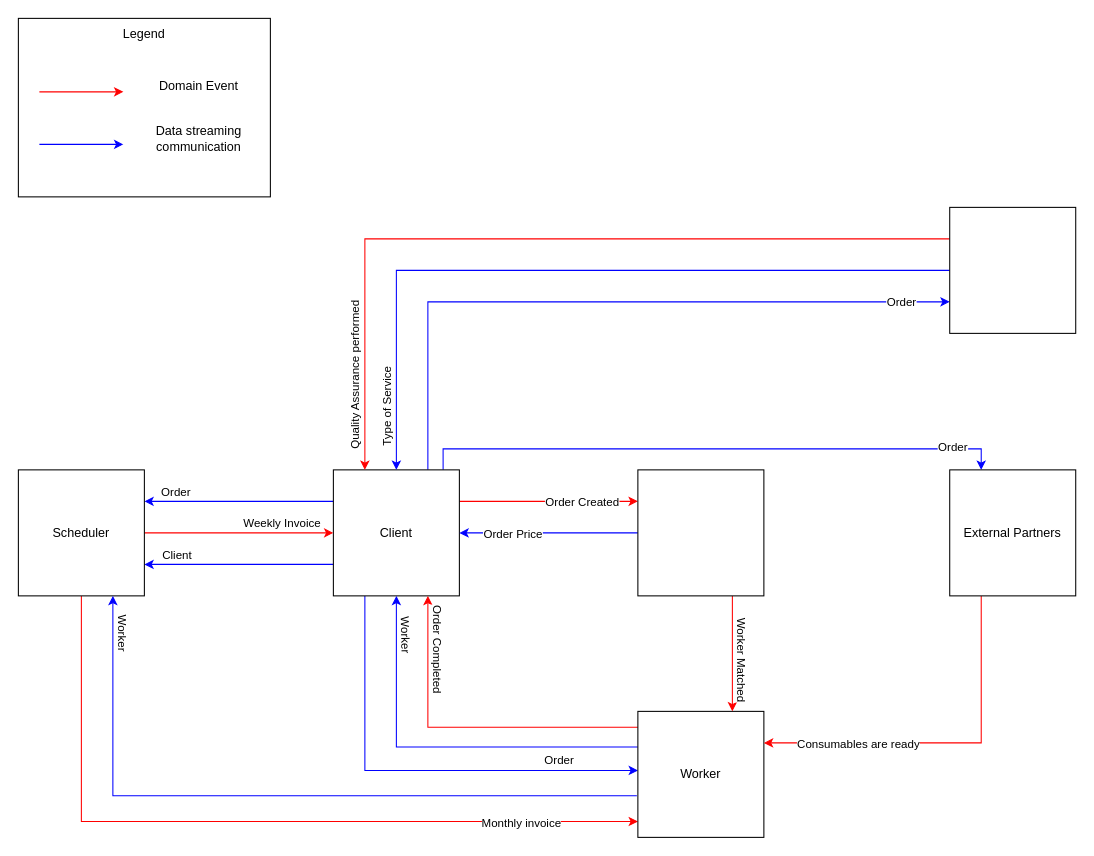
Some shapes in this 1094 by 856 pixel diagram are drawn without their labels. The centre of each missing label's shape, as x and y in pixels:
"Manager" belongs at (1012,269).
"Worker Matching" belongs at (700,532).
